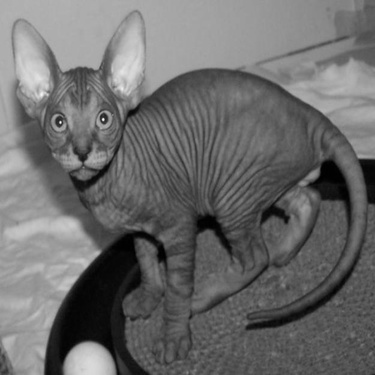cat: (11, 5, 368, 367)
